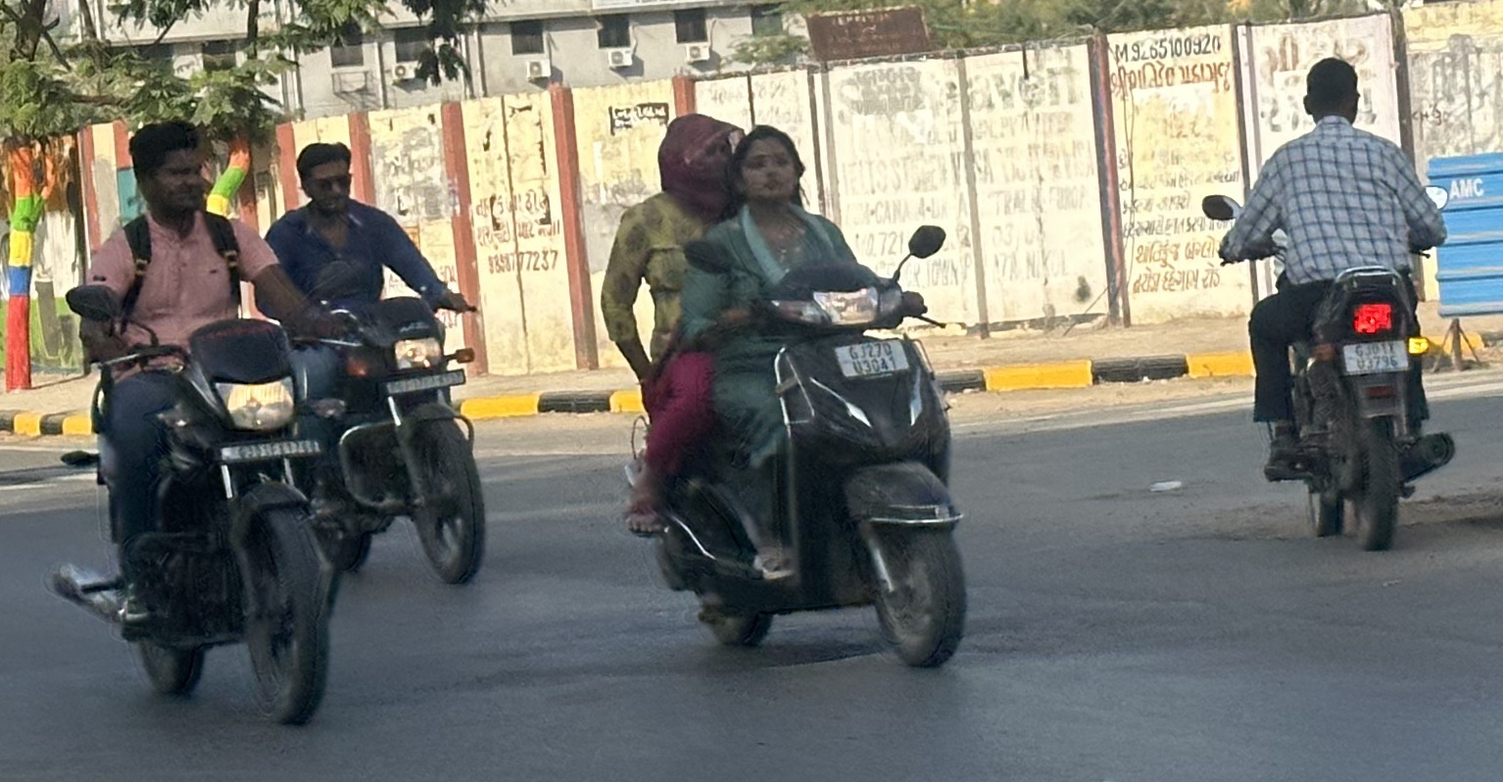BikeWithRider: (589, 101, 986, 683), (38, 114, 349, 736), (1194, 49, 1464, 561), (244, 130, 498, 590)
NoHelmet: (643, 102, 753, 213), (115, 116, 218, 223), (720, 117, 823, 217), (1287, 49, 1379, 142), (287, 132, 363, 223)
